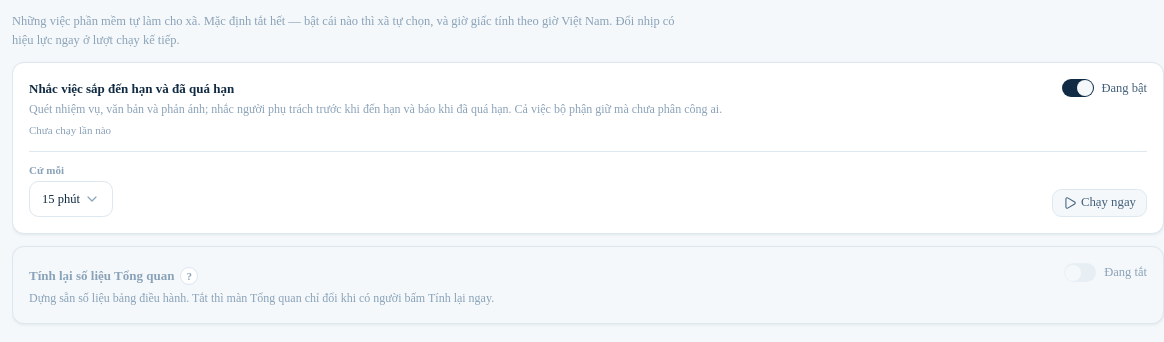
it: Tự động hoá — the switch saves at once (spec 09) › switching off toasts 'Đã tắt: …'
Click the switch with id "tu-dong-hoa-sla_reminders-bat".
click(1078, 88)  # box [1062,79,1094,97]
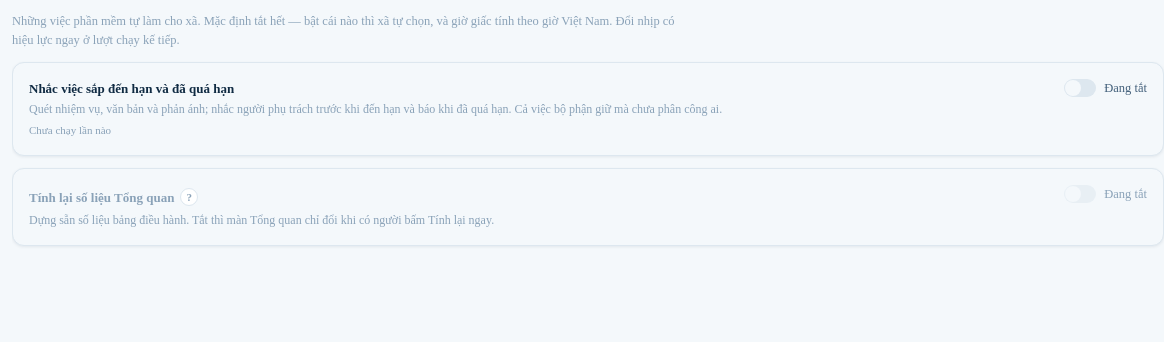
Now the text "Cứ mỗi" is gone
